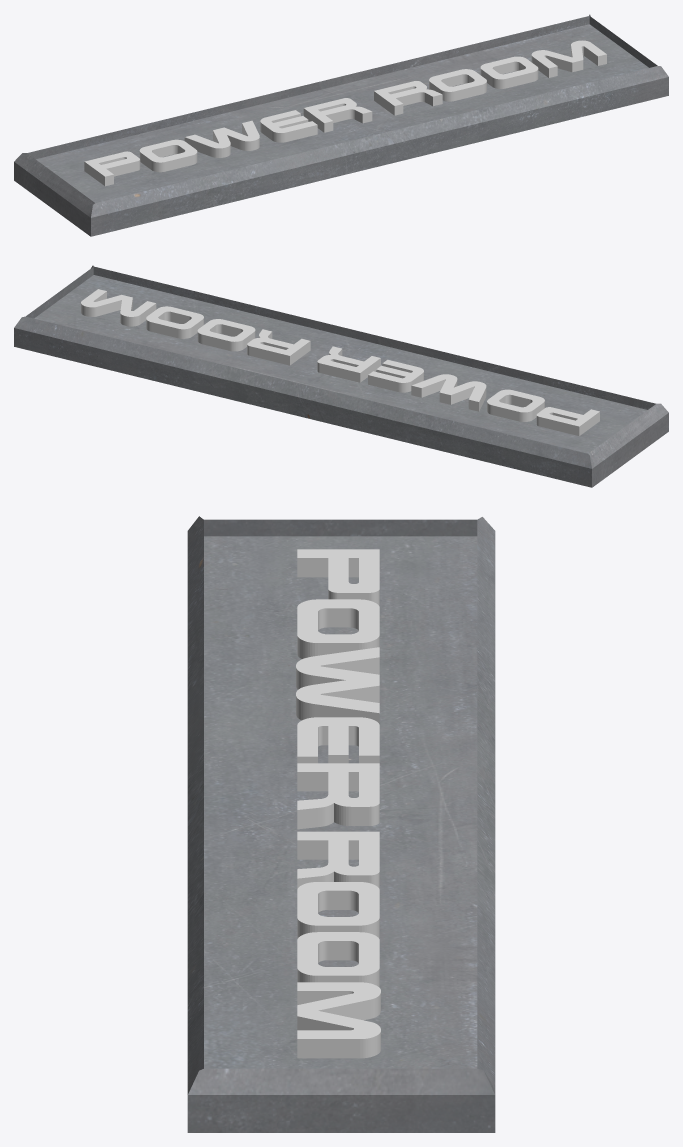
The model's file is PowerRoom_Sign.fbx.
3 renders of one model, top to bottom at view 1: azimuth 30°, elevation 25°; view 2: azimuth 150°, elevation 25°; view 3: azimuth 270°, elevation 25°, orthographic. The views are drawn at different scales.
Parts seen in each view (by area): view 1: Box001, TextPlus002; view 2: Box001, TextPlus002; view 3: Box001, TextPlus002.
Part boxes in pixels (x1,y1,x2,y2): Box001: [14, 14, 668, 236]; TextPlus002: [84, 40, 606, 186]; Box001: [14, 265, 668, 487]; TextPlus002: [81, 289, 599, 436]; Box001: [187, 516, 495, 1132]; TextPlus002: [296, 549, 380, 1058].
Bounding box in the file's own units: 61.84 × 3.06 × 14.24.
Materials: 1 (1 with a texture image).
